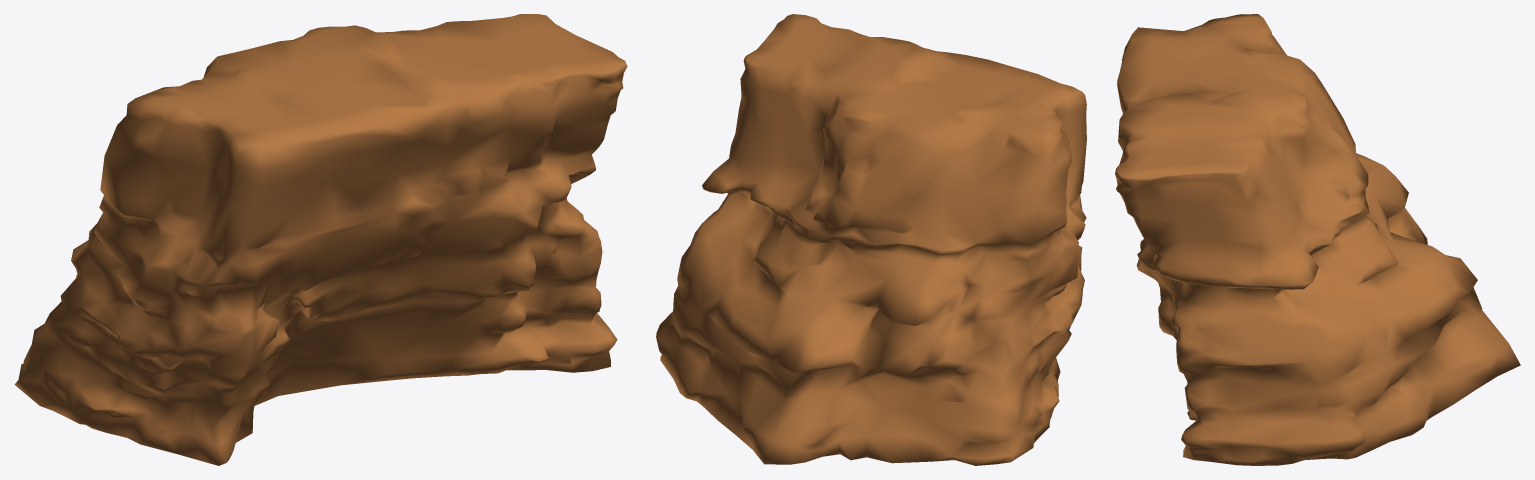
File: MSH_Rocks_Cliff_14_b.FBX
The picture shows the model from 3 angles, left to right: view 1: azimuth 30°, elevation 25°; view 2: azimuth 150°, elevation 25°; view 3: azimuth 270°, elevation 25°; orthographic projection. The views are drawn at different scales.
Parts seen in each view (by area): view 1: MESH_LOD0; view 2: MESH_LOD0; view 3: MESH_LOD0.
Part boxes in pixels (x1,y1,x2,y2): MESH_LOD0: (14, 14, 627, 465); MESH_LOD0: (656, 14, 1086, 465); MESH_LOD0: (1115, 14, 1520, 465).
Size of what is drawn, in the model's own units: 555 by 382 by 492.
